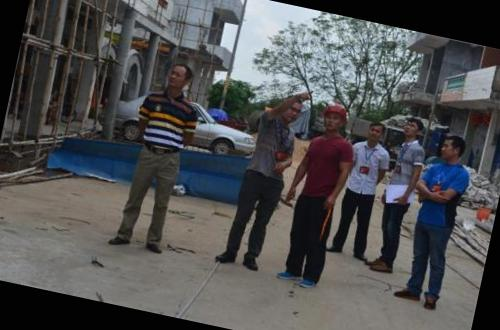no_helmet: (160, 56, 194, 96), (274, 91, 310, 128), (436, 131, 468, 165), (399, 114, 430, 144), (362, 115, 388, 146)
